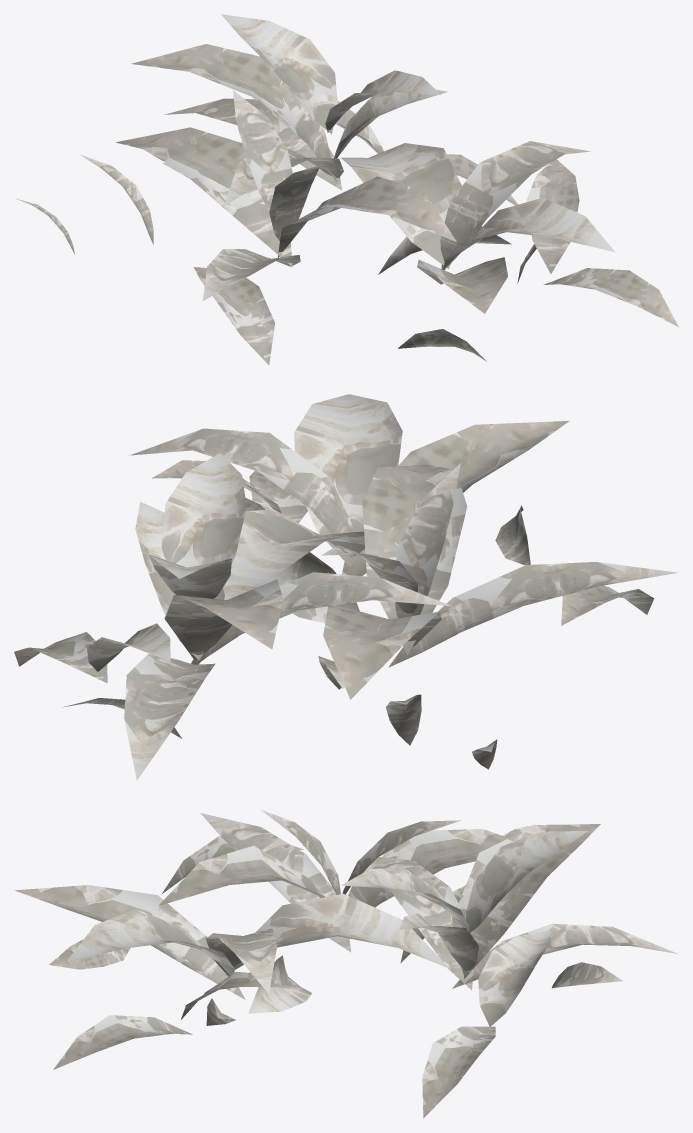
3 views of the same model, one above another, from view 1: azimuth 30°, elevation 25°; view 2: azimuth 150°, elevation 25°; view 3: azimuth 270°, elevation 25° (orthographic). The views are drawn at different scales.
Parts seen in each view (by area): view 1: SM_Pelvic_LOD0; view 2: SM_Pelvic_LOD0; view 3: SM_Pelvic_LOD0.
Part boxes in pixels (<box>): SM_Pelvic_LOD0: <box>16,14,678,365</box>; SM_Pelvic_LOD0: <box>14,394,677,780</box>; SM_Pelvic_LOD0: <box>14,809,677,1118</box>.
Size of the model in its own units: 0.9138 by 0.3646 by 1.2.
